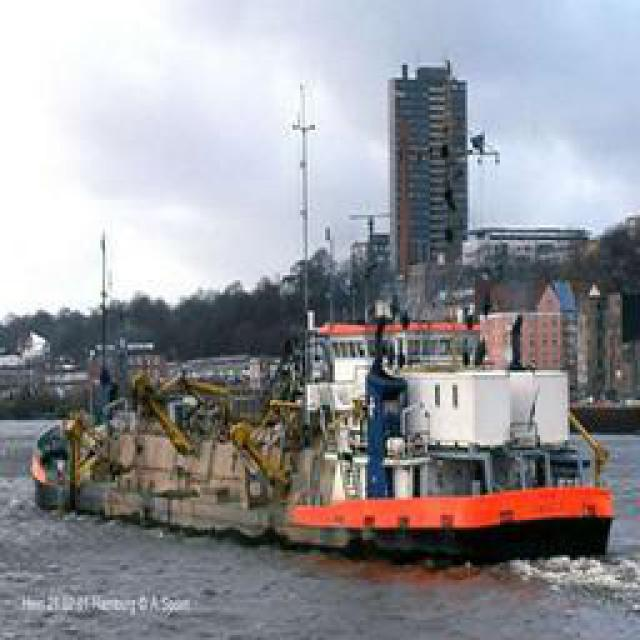Ship: (31, 335, 629, 565)
